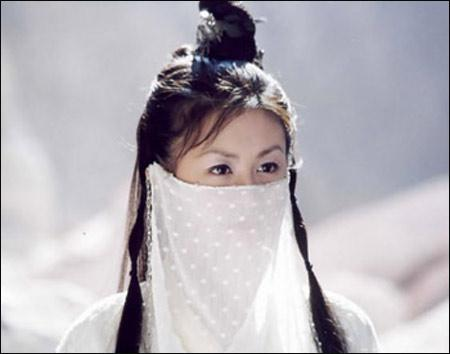OK: (173, 140, 290, 257)
